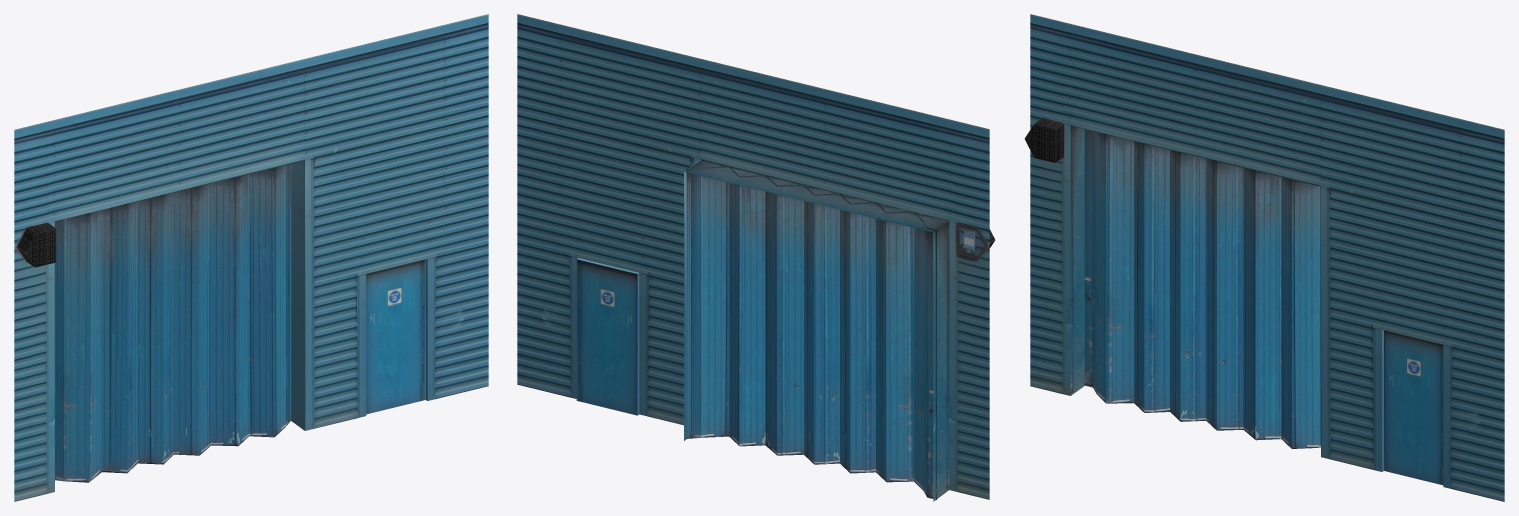
File: building_front8.obj
3 renders of one model, left to right at view 1: azimuth 30°, elevation 25°; view 2: azimuth 150°, elevation 25°; view 3: azimuth 330°, elevation 25°, orthographic.
Visible parts, largest first — view 1: building_front8; view 2: building_front8; view 3: building_front8.
Part boxes in pixels (<box>): building_front8: <box>14,14,488,501</box>; building_front8: <box>517,14,995,501</box>; building_front8: <box>1024,14,1504,501</box>.
Bounding box in the file's own units: 5 × 3.75 × 0.4479.
